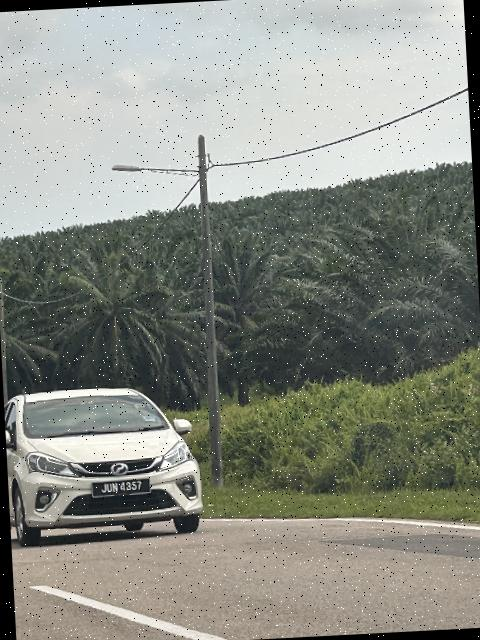License_Plate: (92, 479, 151, 500)
car: (5, 375, 221, 566)
